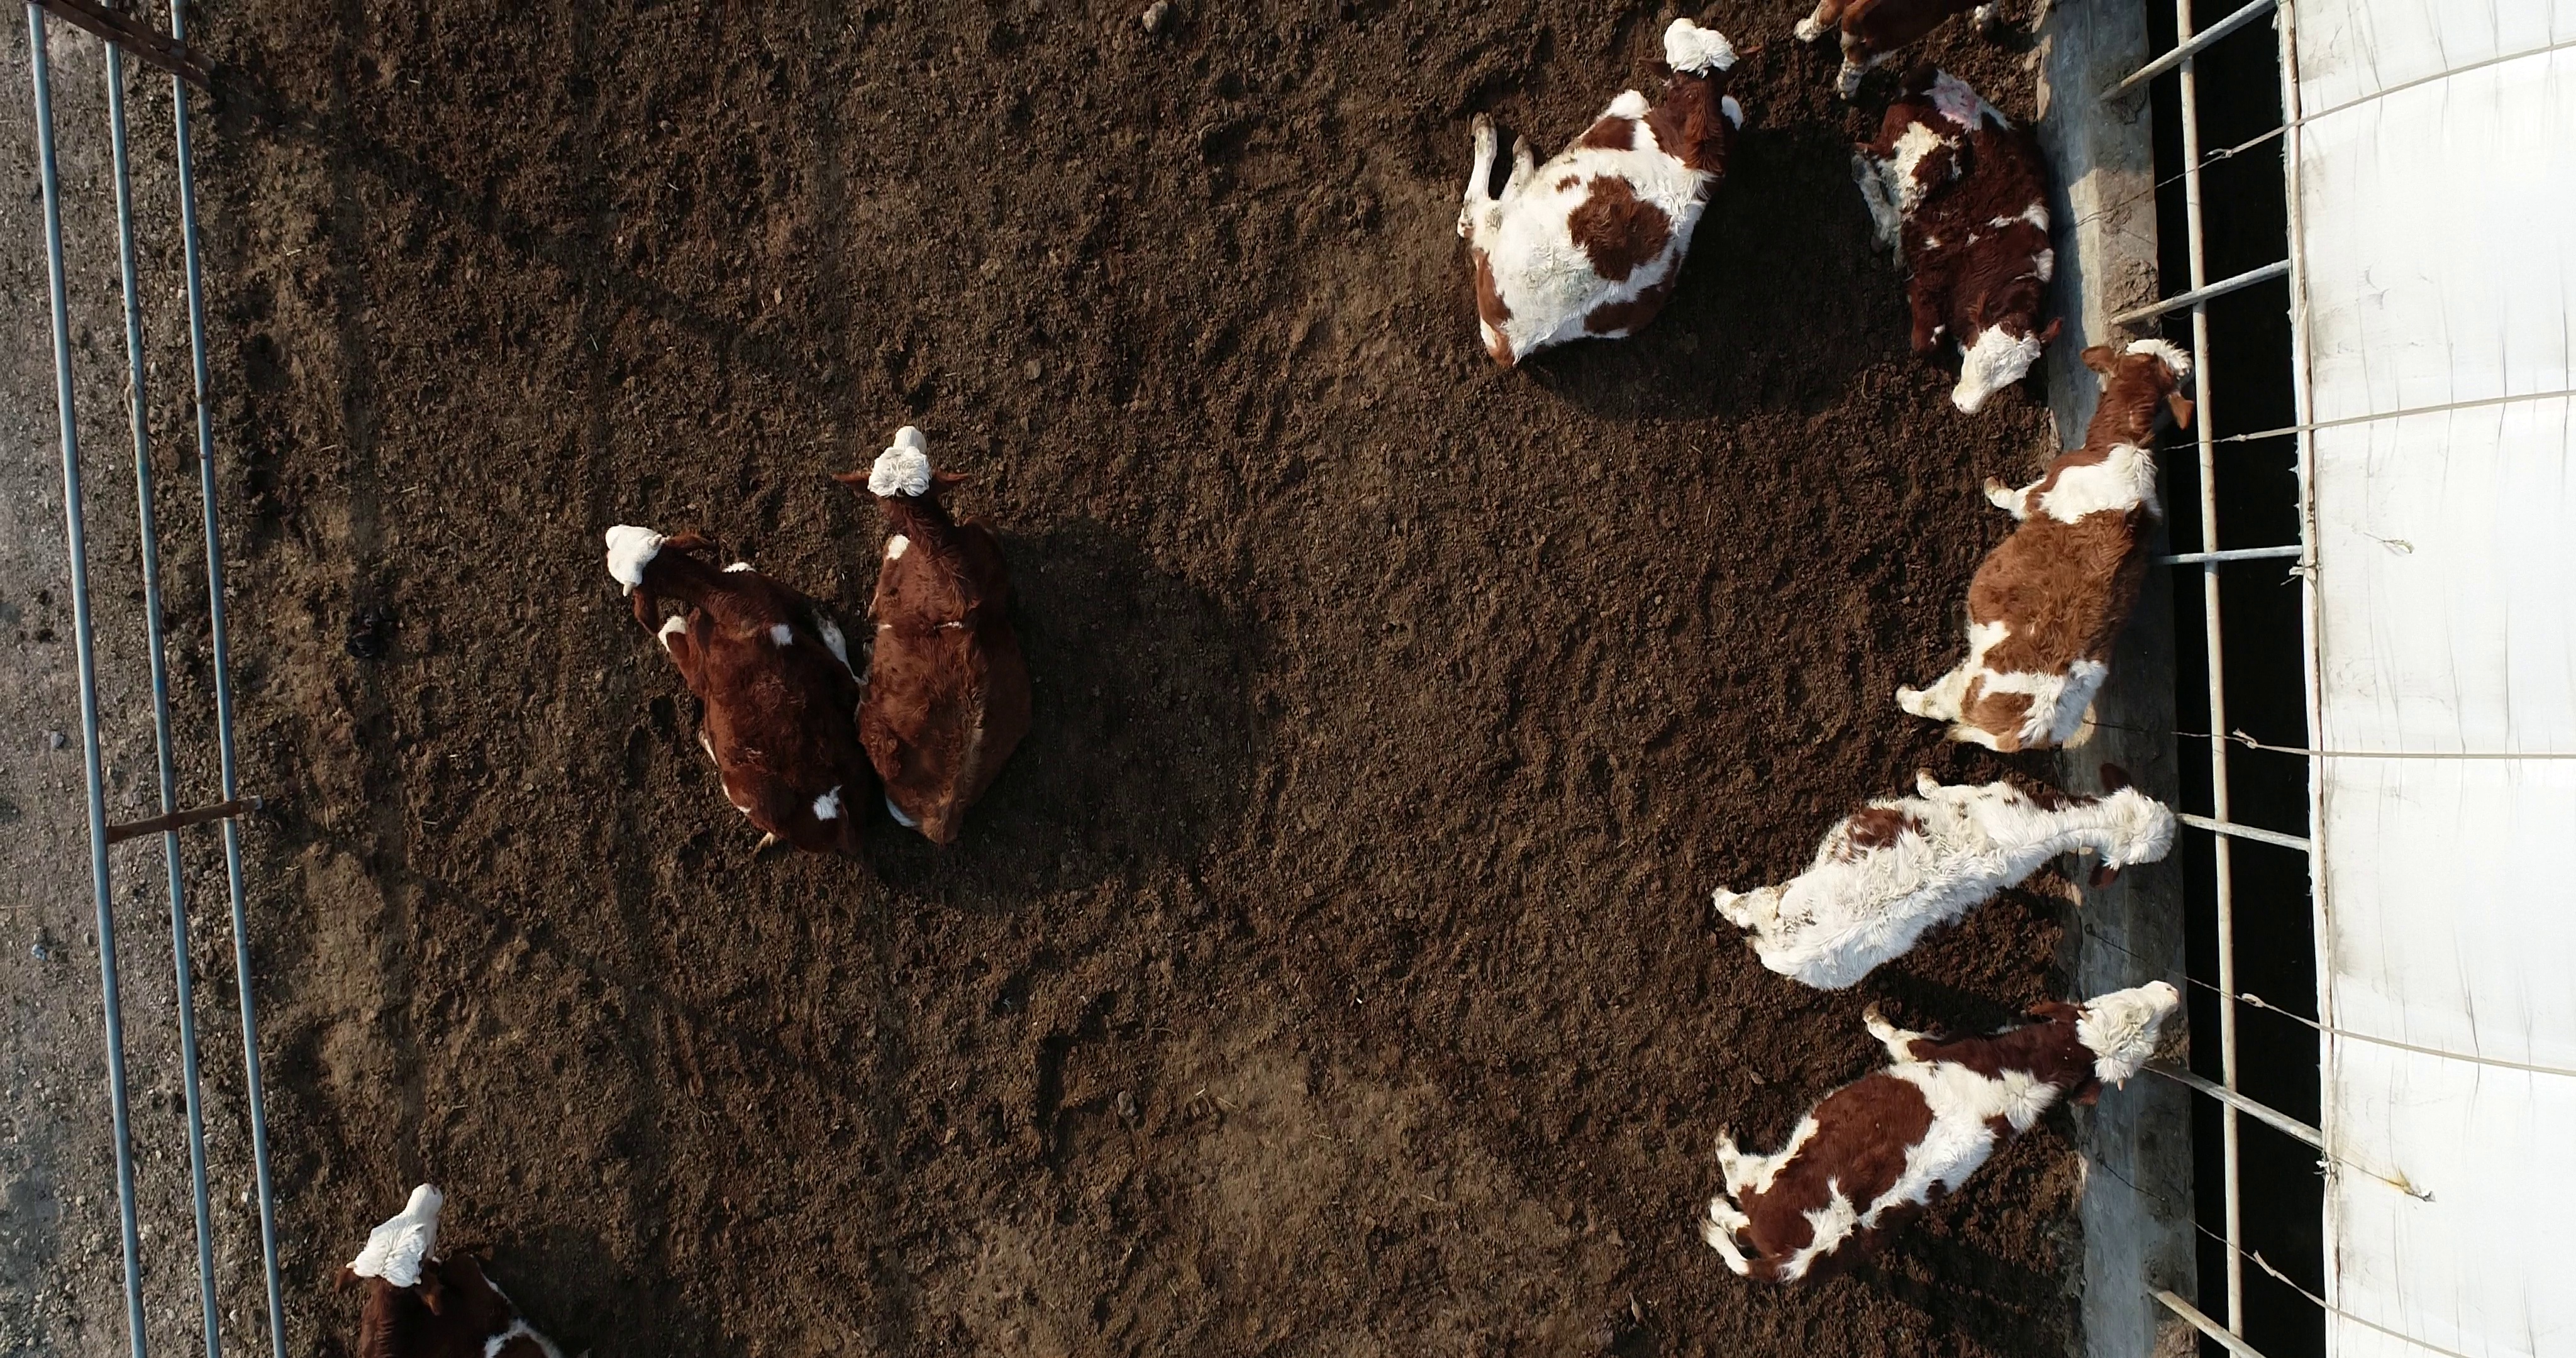cattle: (1889, 339, 2198, 763), (1448, 17, 1751, 378)
